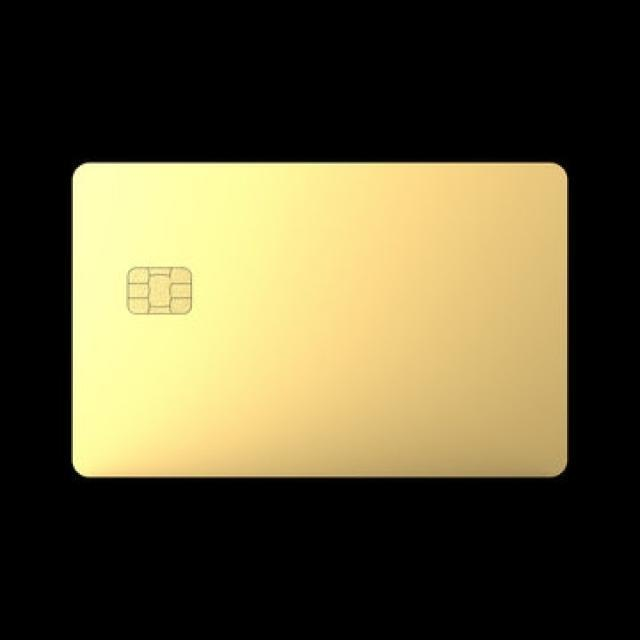payment_card: (71, 160, 568, 479)
